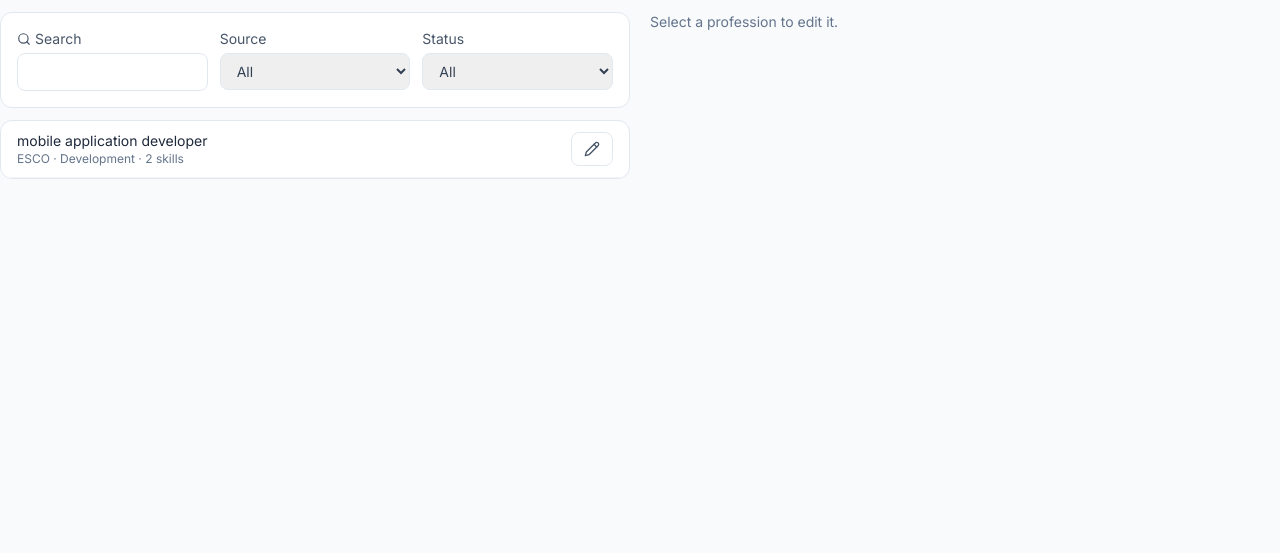
Scenario: ProfessionsTab › Module 5.1: an ESCO role shows its adjusted requirements with the original phrase
What coordinates should you click on to do the following:
click the button named "Edit mobile application developer"
I would click on:
 (592, 149)
Its box is [571, 132, 613, 166].
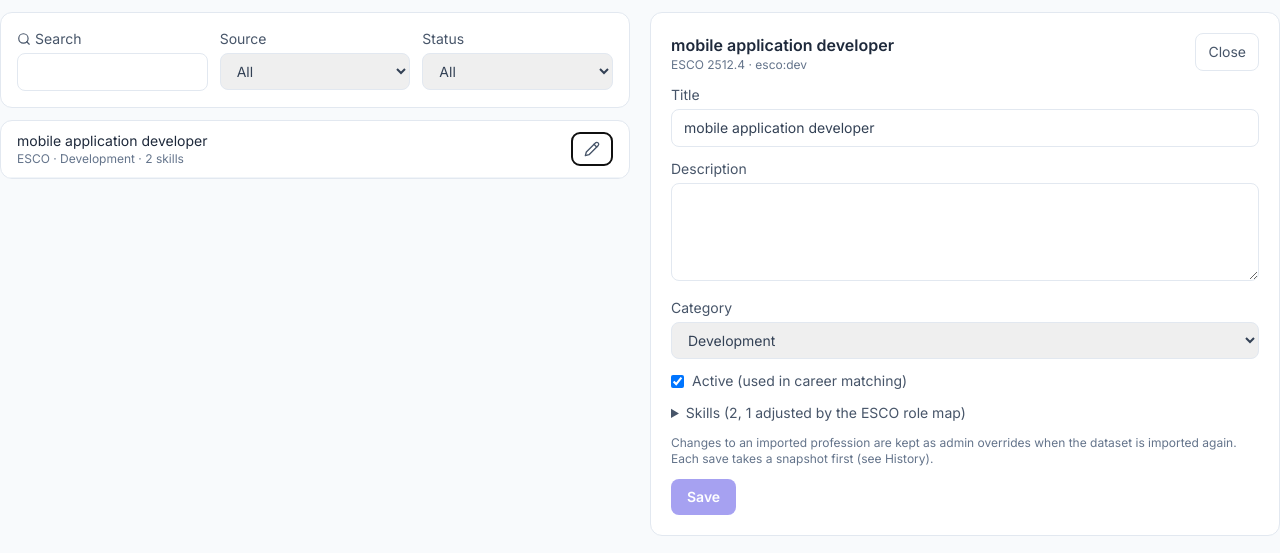
Check: the element with test id "requirements" reads "Skills (2, 1 adjusted by the ESCO role map)", box [686, 404, 966, 421]
